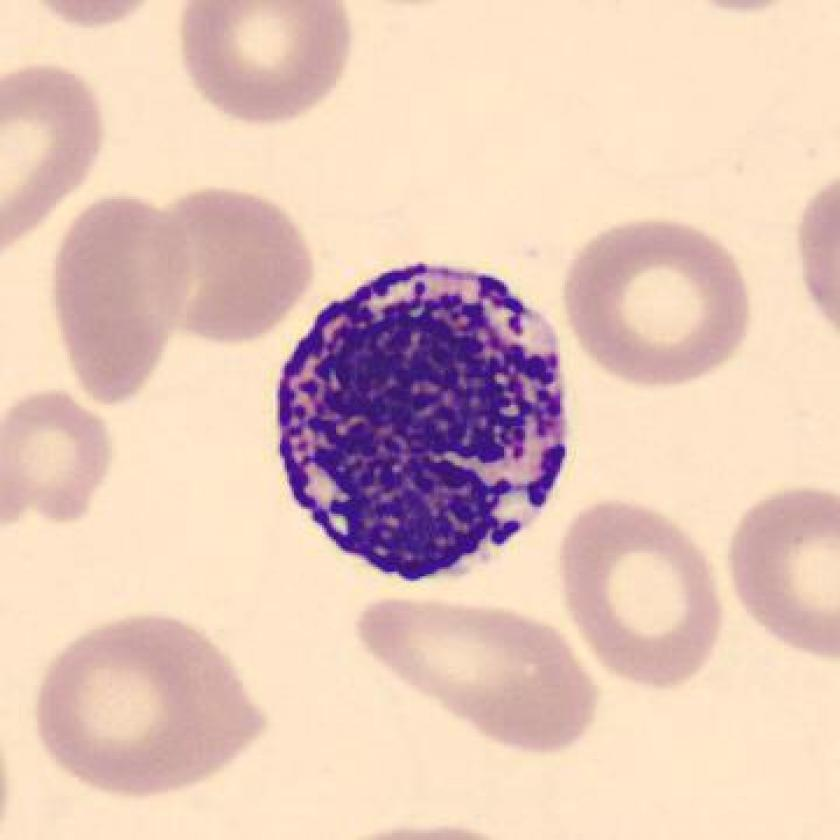basophil: (272, 249, 577, 584)
